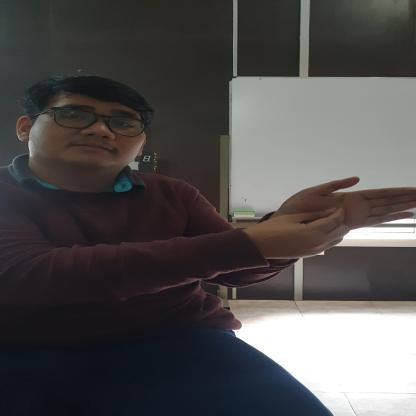Nama: (248, 174, 416, 260)
